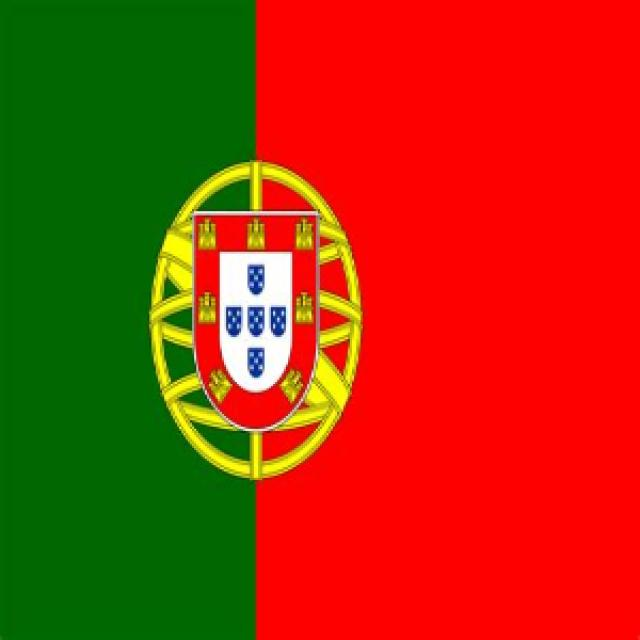portugal: (12, 14, 640, 640)
